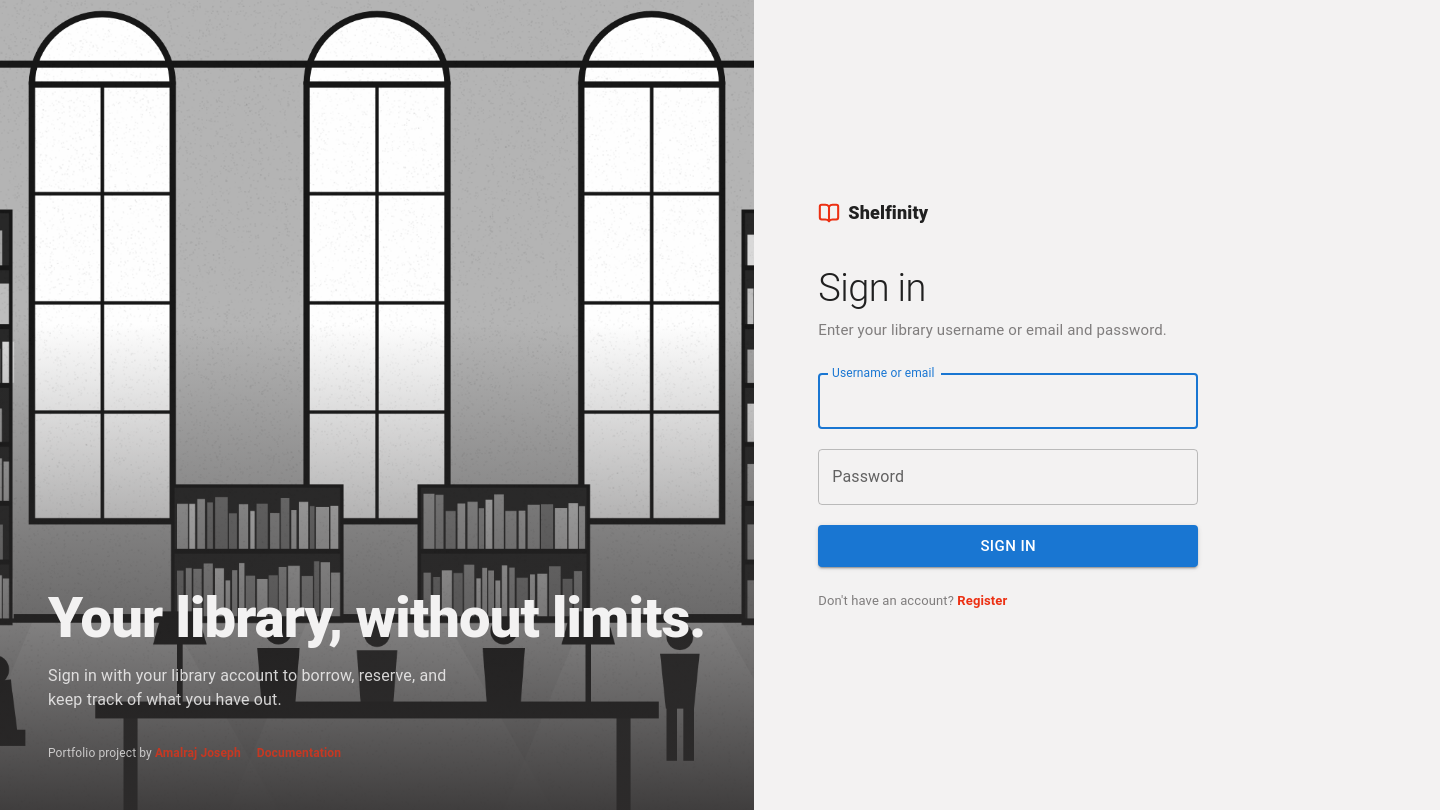
it: LoginPage › shows a validation error when fields are empty
Click the button with test id "login-submit" at (1008, 546), box [818,525,1198,567]
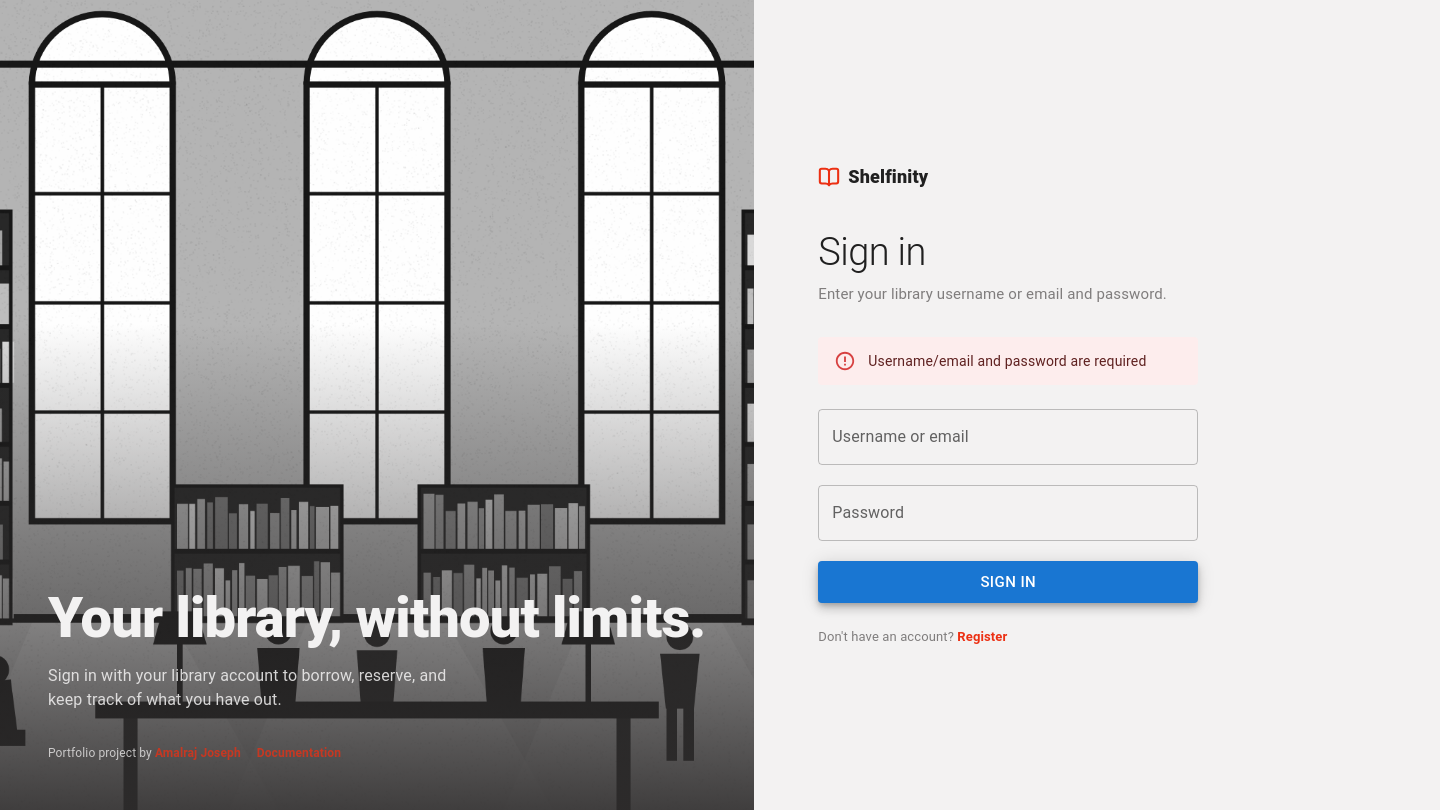
Now the text "Username/email and password are required" is shown, box [868,353,1146,369]
